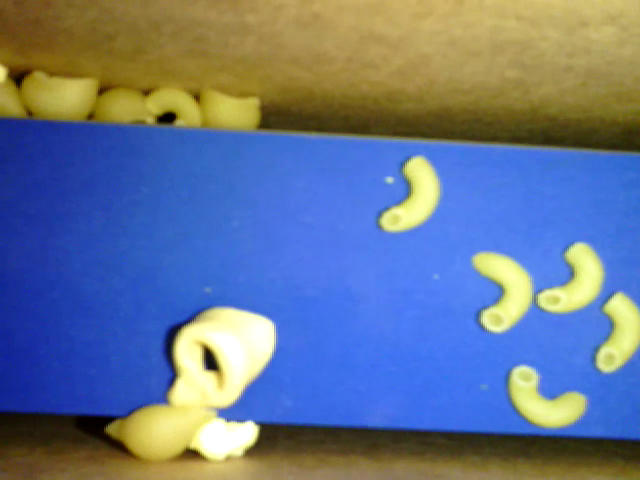elbow: (504, 364, 586, 429), (470, 251, 533, 334), (377, 153, 442, 233), (536, 240, 605, 314), (595, 291, 637, 373), (145, 85, 203, 129)
shell: (105, 403, 220, 460), (16, 71, 97, 119), (89, 86, 157, 126), (199, 87, 260, 128)
tortellini: (165, 305, 277, 408)
